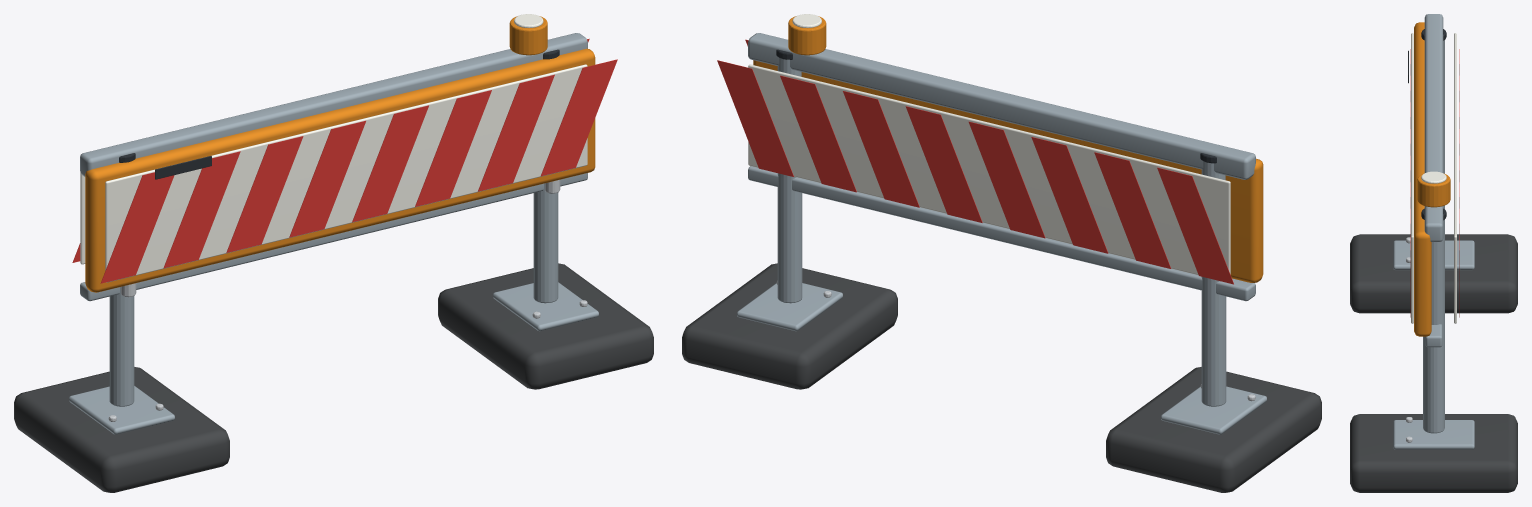
File: prawko_bariera_drogowa.glb
3 views of the same model, side by side, from view 1: azimuth 30°, elevation 25°; view 2: azimuth 150°, elevation 25°; view 3: azimuth 270°, elevation 25° (orthographic). The views are drawn at different scales.
Visible parts, largest first — view 1: Tablica – odblaskowa biala powierzchnia, Tablica – profil aluminiowy, R – stabilizujaca stopa z gumy, L – stabilizujaca stopa z gumy, Rama – poziomy profil gorny, Rama – profil dolny, Czerwony pas odblaskowy 5, Czerwony pas odblaskowy 8, Czerwony pas odblaskowy 3, Czerwony pas odblaskowy 6, Czerwony pas odblaskowy 7, Czerwony pas odblaskowy 4 (+7 smaller); view 2: Tablica – tylny bialy odblask, L – stabilizujaca stopa z gumy, R – stabilizujaca stopa z gumy, Rama – poziomy profil gorny, Rama – profil dolny, Tablica – profil aluminiowy, Czerwony pas tylny 1, Czerwony pas tylny 3, Czerwony pas tylny 4, Czerwony pas tylny 7, Czerwony pas tylny 5, Czerwony pas tylny 6 (+7 smaller); view 3: R – stabilizujaca stopa z gumy, L – stabilizujaca stopa z gumy, Tablica – profil aluminiowy, Rama – poziomy profil gorny, R – rura pionowa, R – stalowa plyta stopki, L – stalowa plyta stopki, Tablica – odblaskowa biala powierzchnia, Tablica – tylny bialy odblask, Jedna lampa ostrzegawcza – obudowa, Rama – profil dolny, L – rura pionowa (+1 smaller).
Part boxes in pixels (x1,y1,x2,y2): Tablica – odblaskowa biala powierzchnia: [105, 64, 587, 282]; Tablica – profil aluminiowy: [85, 48, 595, 292]; R – stabilizujaca stopa z gumy: [438, 263, 653, 389]; L – stabilizujaca stopa z gumy: [14, 367, 229, 492]; Rama – poziomy profil gorny: [80, 33, 587, 176]; Rama – profil dolny: [80, 173, 587, 301]; Czerwony pas odblaskowy 5: [352, 105, 428, 222]; Czerwony pas odblaskowy 8: [541, 59, 617, 176]; Czerwony pas odblaskowy 3: [226, 136, 303, 252]; Czerwony pas odblaskowy 6: [415, 90, 491, 206]; Czerwony pas odblaskowy 7: [478, 74, 554, 191]; Czerwony pas odblaskowy 4: [289, 120, 365, 237]; Tablica – tylny bialy odblask: [748, 64, 1230, 275]; L – stabilizujaca stopa z gumy: [1106, 367, 1321, 492]; R – stabilizujaca stopa z gumy: [682, 263, 897, 389]; Rama – poziomy profil gorny: [748, 33, 1255, 179]; Rama – profil dolny: [748, 166, 1255, 301]; Tablica – profil aluminiowy: [753, 60, 1263, 282]; Czerwony pas tylny 1: [1157, 167, 1233, 284]; Czerwony pas tylny 3: [1031, 137, 1108, 253]; Czerwony pas tylny 4: [968, 121, 1045, 238]; Czerwony pas tylny 7: [780, 75, 856, 192]; Czerwony pas tylny 5: [905, 106, 982, 222]; Czerwony pas tylny 6: [843, 91, 919, 207]; R – stabilizujaca stopa z gumy: [1350, 414, 1517, 492]; L – stabilizujaca stopa z gumy: [1350, 234, 1517, 313]; Tablica – profil aluminiowy: [1414, 22, 1431, 336]; Rama – poziomy profil gorny: [1424, 14, 1443, 241]; R – rura pionowa: [1423, 219, 1444, 433]; R – stalowa plyta stopki: [1393, 420, 1474, 449]; L – stalowa plyta stopki: [1393, 240, 1474, 270]; Tablica – odblaskowa biala powierzchnia: [1411, 33, 1413, 323]; Tablica – tylny bialy odblask: [1454, 33, 1456, 323]; Jedna lampa ostrzegawcza – obudowa: [1417, 173, 1450, 207]; Rama – profil dolny: [1425, 324, 1442, 347]; L – rura pionowa: [1443, 40, 1444, 209].
Size of the model in its own units: 2.24 by 1.28 by 0.68.
